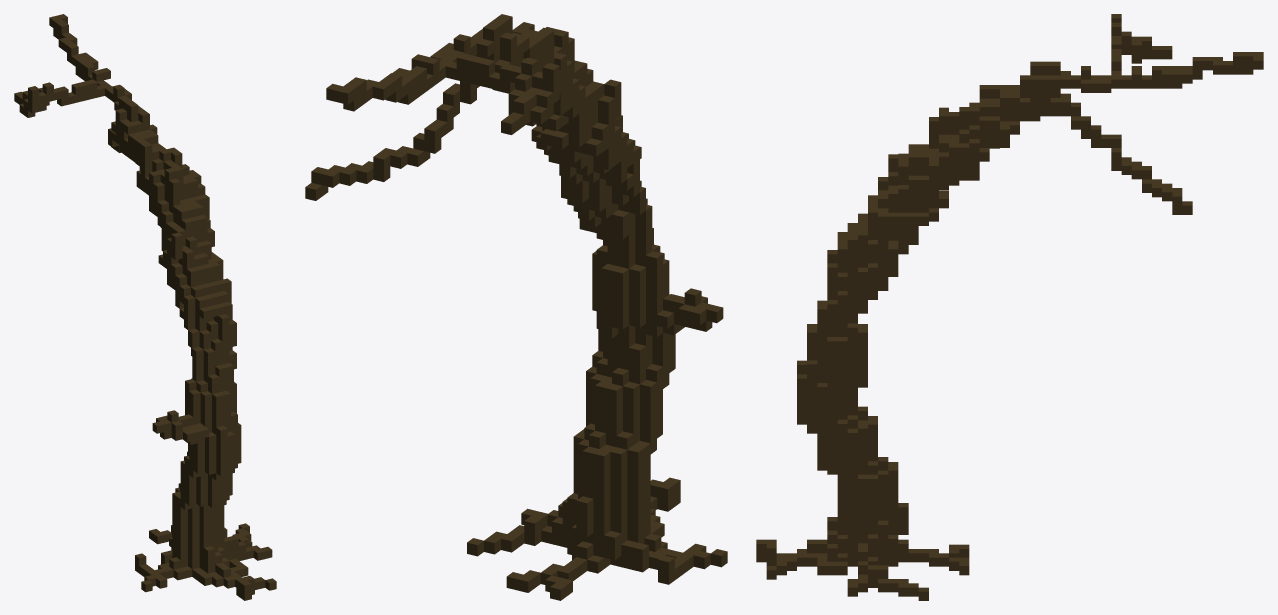
File: Tree.gltf
The picture shows the model from 3 angles, left to right: view 1: azimuth 30°, elevation 25°; view 2: azimuth 150°, elevation 25°; view 3: azimuth 270°, elevation 25°; orthographic projection. The views are drawn at different scales.
Visible parts, largest first — view 1: Tree; view 2: Tree; view 3: Tree.
Boxes of the visible parts, box(x1,y1,x2,y2) form: Tree: box(14, 14, 276, 600); Tree: box(305, 14, 727, 600); Tree: box(756, 14, 1263, 600).
Size of the model in its own units: 1.9 by 5.6 by 5.
Materials: 1 (1 with a texture image).
